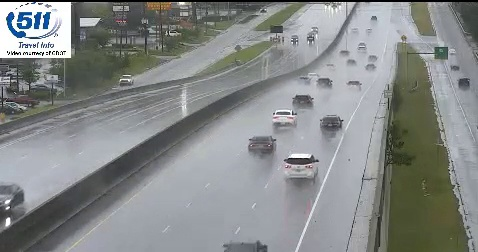car: (284, 154, 318, 179), (249, 136, 276, 153), (273, 110, 297, 127), (293, 94, 312, 109), (321, 116, 341, 129)
